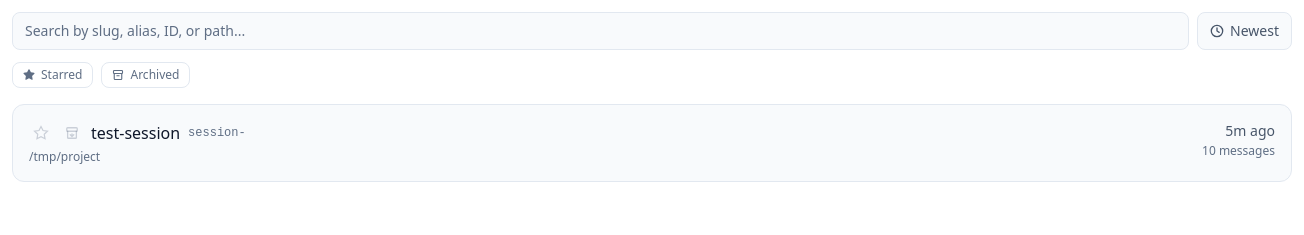
Test: SessionList › shows filter empty state when filtering
Type "nonexistent" into the field with placeholder "Search by slug, alias, ID, or path..." at x=601, y=31, box [12,12,1189,50]
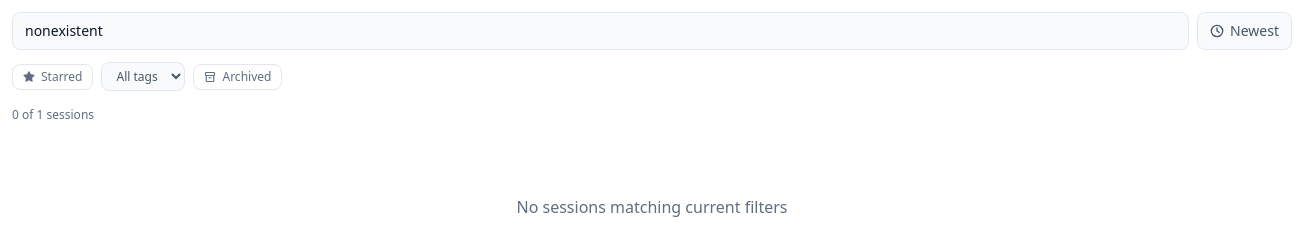
Expected: the text "No sessions matching current filters" is shown, [516,196,788,218]
